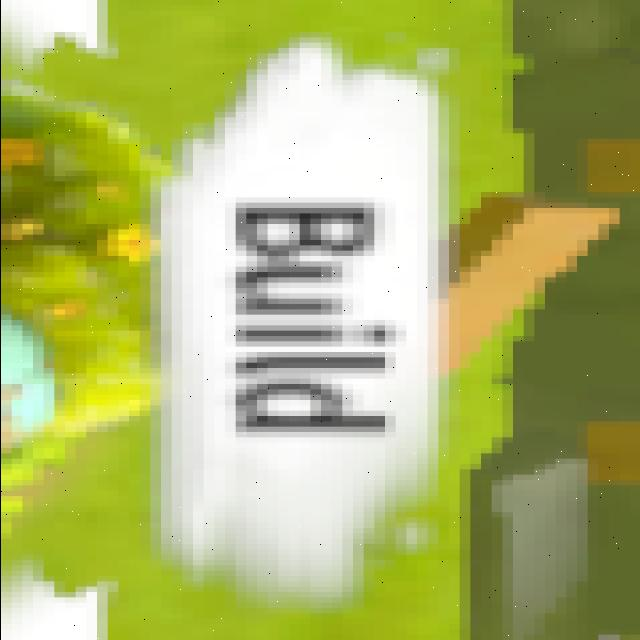build: (198, 189, 416, 452)
